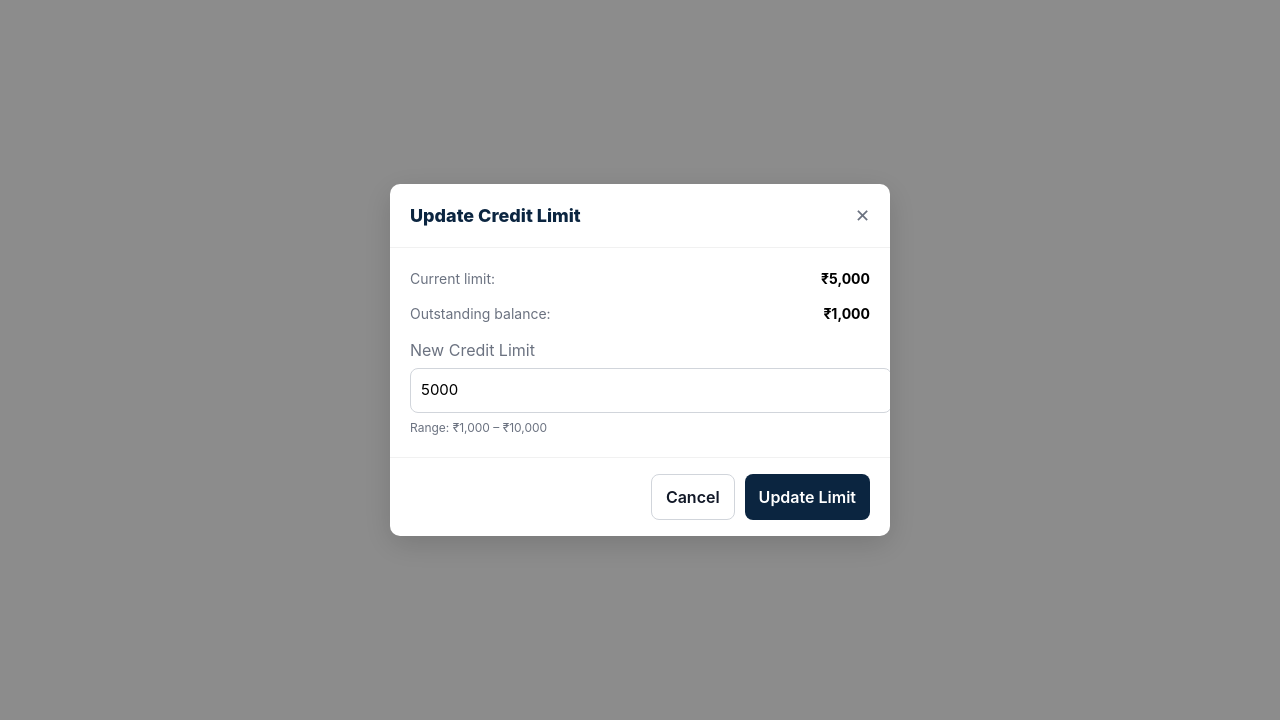
Test case: UpdateCreditLimitModal (ManageLimit.vue) — Unit Tests › disables Update button when proposed limit < outstanding
Step 1. Replace the text in the number field with "900" → (651, 391), box [410,368,892,413]
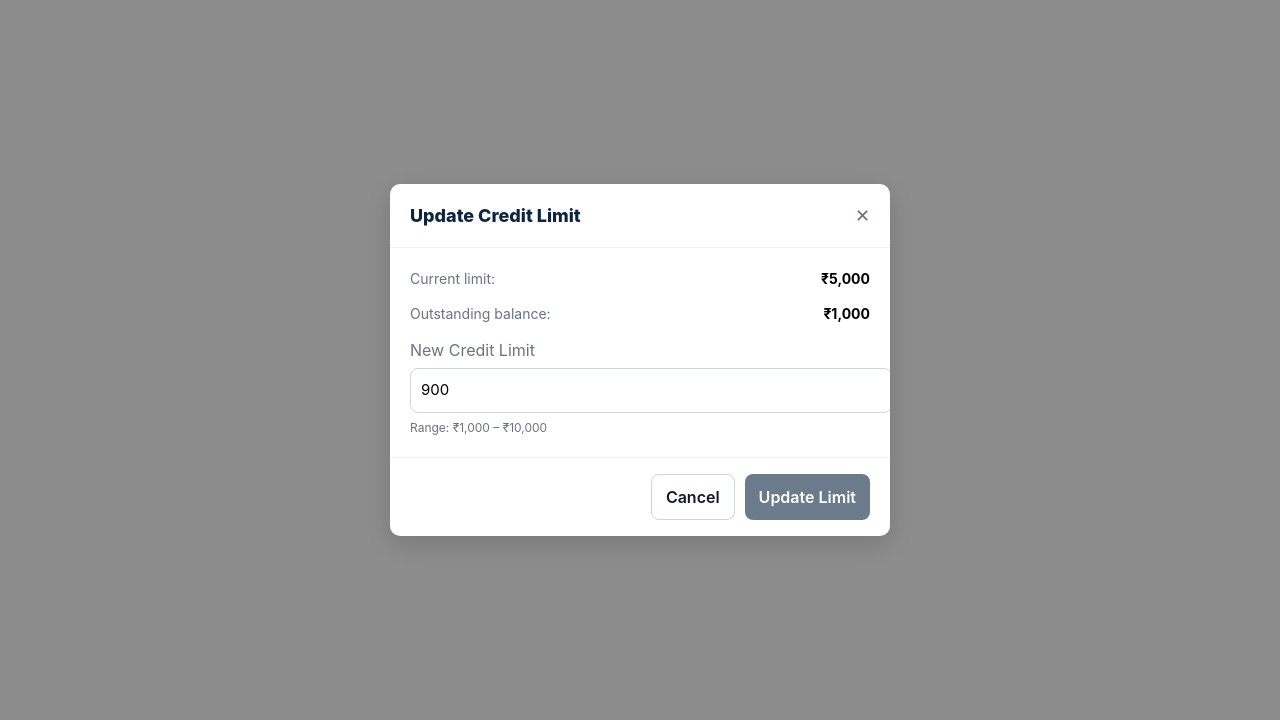
Check: the button "Update Limit" is disabled, box [745,474,870,520]
